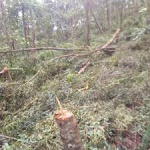Forest: (3, 4, 147, 148)
